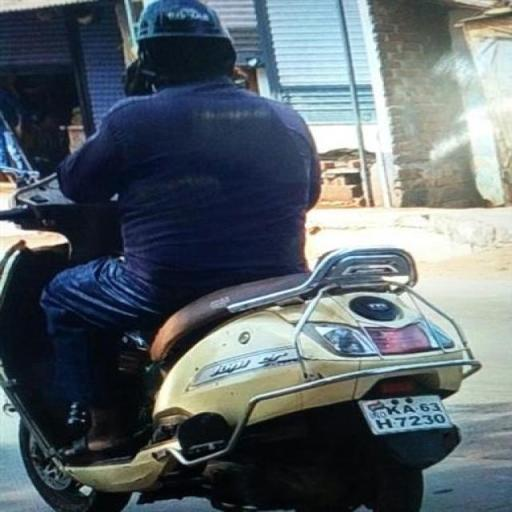numberplate: (363, 390, 454, 438)
using mobile: (118, 56, 168, 98)
